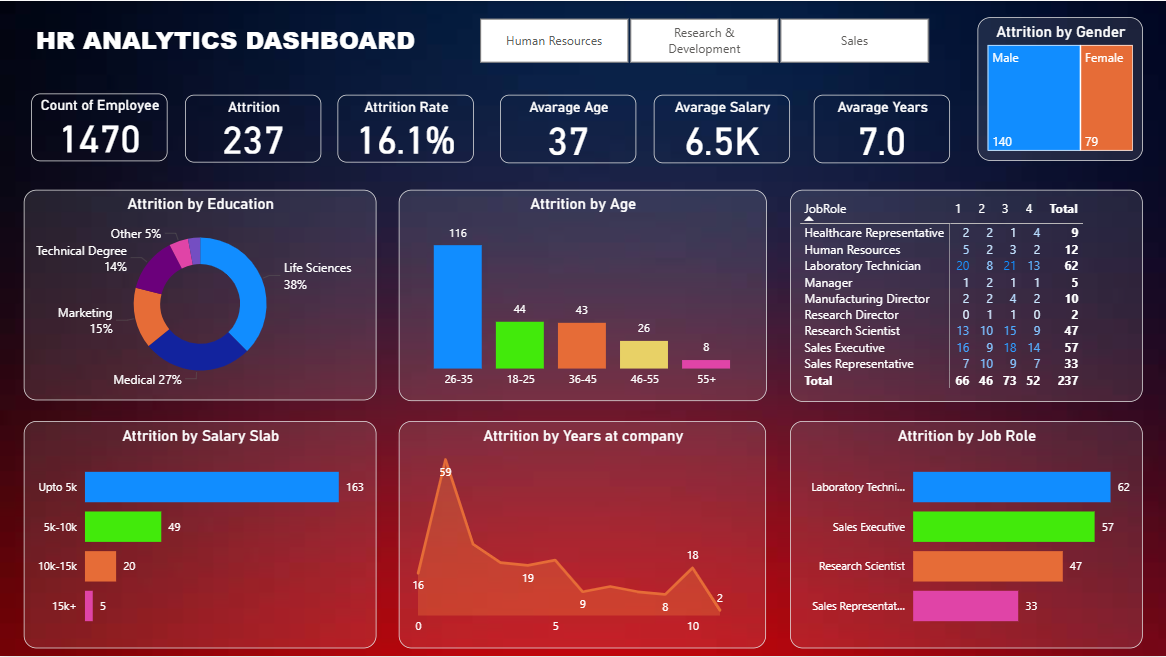

The dashboard page shown, as its layout file describes it:
{"tool":"powerbi","page":{"name":"Page 1","canvas":[1280,720],"ordinal":0},"visuals":[{"type":"card","title":"Count of Employee","fields":{"Values":["Sum(HR_Analytics (1).EmployeeCount)"]},"box":[34.8,101.3,149.6,74.1],"z":0},{"type":"card","title":"Attrition","fields":{"Values":["Sum(HR_Analytics (1).AttritionCount)"]},"box":[202.6,102.8,149.6,74.1],"z":1},{"type":"card","title":"Attrition Rate","fields":{"Values":["HR_Analytics (1).AttritionRate"]},"box":[370.3,102.8,149.6,74.1],"z":2},{"type":"card","title":"Avarage Age","fields":{"Values":["Avg(HR_Analytics (1).Age)"]},"box":[548.7,102.8,149.6,75.6],"z":3},{"type":"card","title":"Avarage Salary","fields":{"Values":["Avg(HR_Analytics (1).MonthlyIncome)"]},"box":[718,102.8,149.6,75.6],"z":4},{"type":"card","title":"Avarage Years","fields":{"Values":["Avg(HR_Analytics (1).YearsAtCompany)"]},"box":[893.3,102.8,149.6,75.6],"z":5},{"type":"donutChart","title":"Attrition by Education","fields":{"Category":["HR_Analytics (1).EducationField"],"Y":["Sum(HR_Analytics (1).AttritionCount)"]},"box":[25.7,207.1,387,231.3],"z":6},{"type":"clusteredColumnChart","title":"Attrition by Age","fields":{"Category":["HR_Analytics (1).AgeGroup"],"Y":["Sum(HR_Analytics (1).AttritionCount)"]},"box":[437.7,206.9,403.6,232.1],"z":7},{"type":"pivotTable","fields":{"Rows":["HR_Analytics (1).JobRole"],"Columns":["HR_Analytics (1).JobSatisfaction"],"Values":["Sum(HR_Analytics (1).AttritionCount)"]},"box":[867.6,207.1,387,232.8],"z":8},{"type":"clusteredBarChart","title":"Attrition by Salary Slab","fields":{"Category":["HR_Analytics (1).SalarySlab"],"Y":["Sum(HR_Analytics (1).AttritionCount)"]},"box":[25.7,461,387,249.4],"z":9},{"type":"clusteredBarChart","title":"Attrition by Job Role","fields":{"Category":["HR_Analytics (1).JobRole"],"Y":["Sum(HR_Analytics (1).AttritionCount)"]},"box":[867.6,461,387,249.4],"z":10},{"type":"areaChart","title":"Attrition by Years at company","fields":{"Category":["HR_Analytics (1).YearsAtCompany"],"Y":["Sum(HR_Analytics (1).AttritionCount)"]},"box":[438.4,461,403.6,249.4],"z":11},{"type":"treemap","title":"Attrition by Gender","fields":{"Group":["HR_Analytics (1).Gender"],"Values":["Sum(HR_Analytics (1).AttritionCount)"]},"box":[1073.2,18.1,181.4,157.2],"z":12},{"type":"slicer","fields":{"Values":["HR_Analytics (1).Department"]},"box":[500.3,12.1,542.7,62],"z":13},{"type":"textbox","box":[34.8,18.1,485.2,55.9],"z":14}]}

Visuals, with their boxes in screenshot pixels (x1, y1, x2, y2), scaled from the page's 1280x720 canvas onto the 1166x657 screenshot:
"Count of Employee" card: [left=32, top=92, right=168, bottom=160]
"Attrition" card: [left=185, top=94, right=321, bottom=161]
"Attrition Rate" card: [left=337, top=94, right=474, bottom=161]
"Avarage Age" card: [left=500, top=94, right=636, bottom=163]
"Avarage Salary" card: [left=654, top=94, right=790, bottom=163]
"Avarage Years" card: [left=814, top=94, right=950, bottom=163]
"Attrition by Education" donutChart: [left=23, top=189, right=376, bottom=400]
"Attrition by Age" clusteredColumnChart: [left=399, top=189, right=766, bottom=401]
pivotTable - HR_Analytics (1).JobRole x HR_Analytics (1).JobSatisfaction: [left=790, top=189, right=1143, bottom=401]
"Attrition by Salary Slab" clusteredBarChart: [left=23, top=421, right=376, bottom=648]
"Attrition by Job Role" clusteredBarChart: [left=790, top=421, right=1143, bottom=648]
"Attrition by Years at company" areaChart: [left=399, top=421, right=767, bottom=648]
"Attrition by Gender" treemap: [left=978, top=17, right=1143, bottom=160]
slicer - HR_Analytics (1).Department: [left=456, top=11, right=950, bottom=68]
textbox: [left=32, top=17, right=474, bottom=68]
